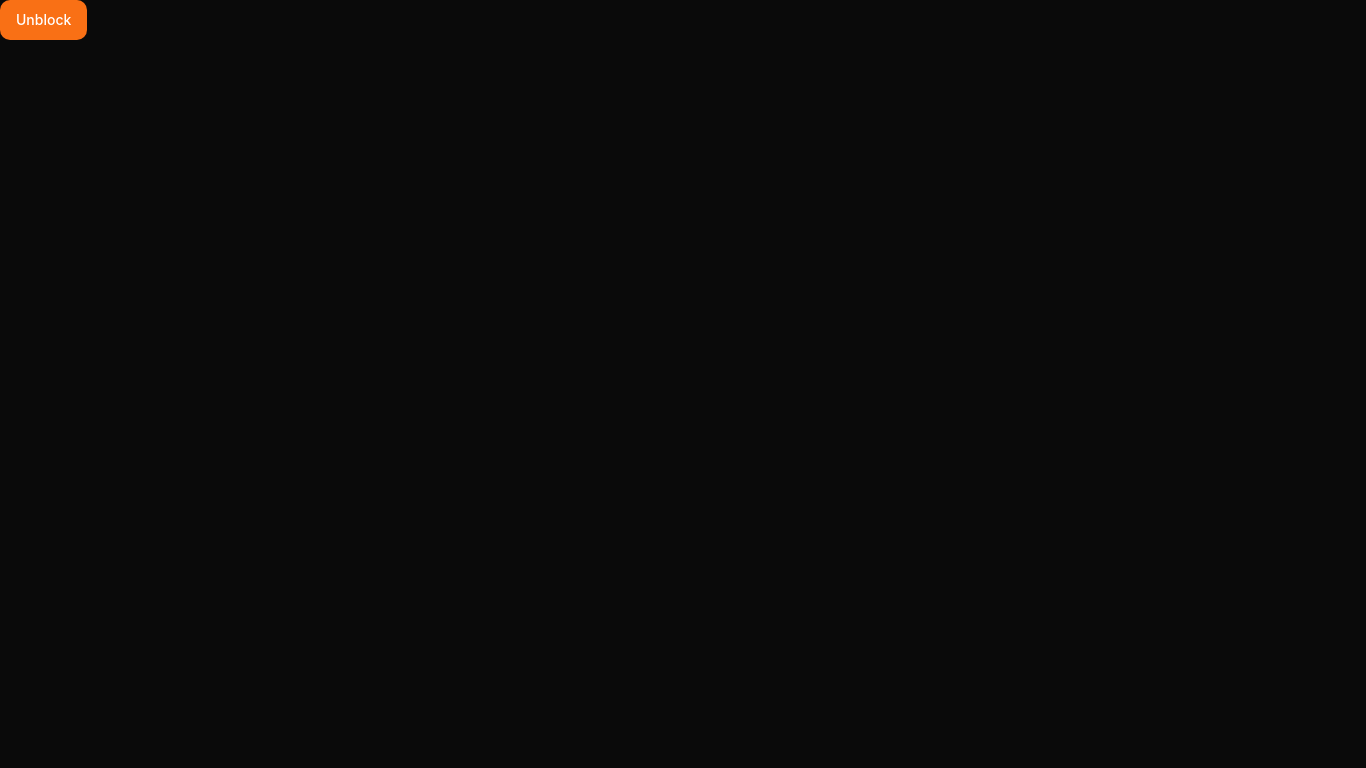
Unblock confirmation flow › opens a confirmation dialog and fires success toast on confirm
Later steps or results of the test are not shown.
Click the button "Unblock" at [44, 20], box [0, 0, 87, 40]
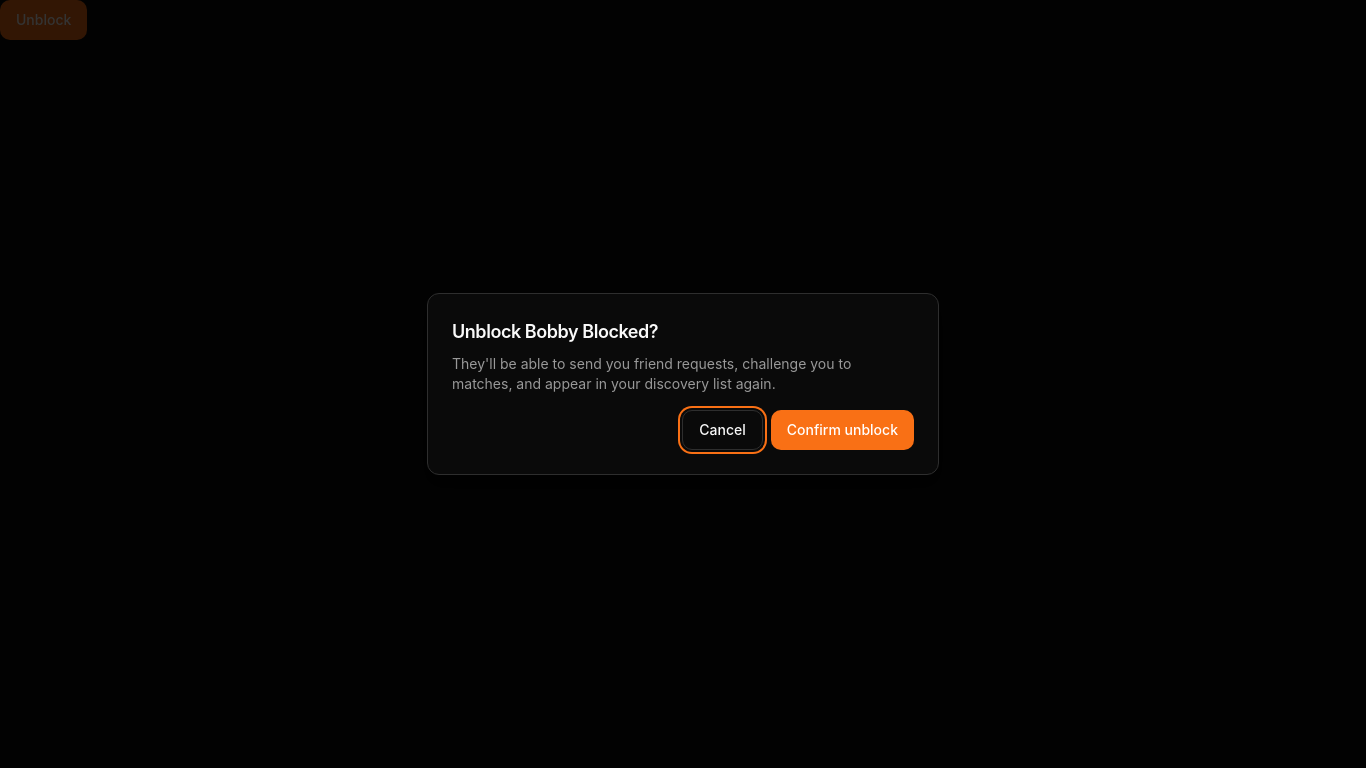
Result: the heading "Unblock Bobby Blocked?" is shown at [452, 321, 658, 342]
